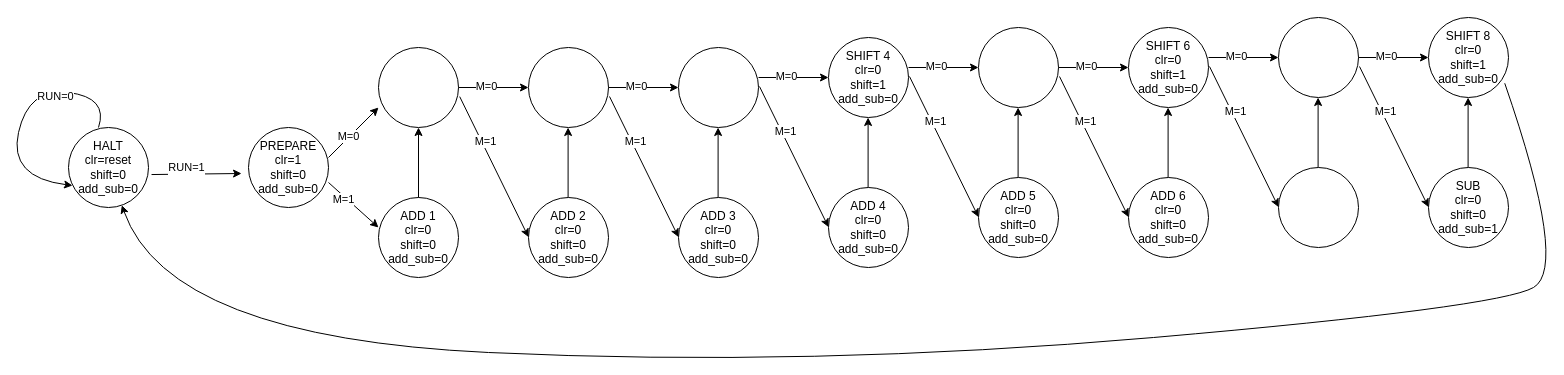
Image size: 1564x375. Some labels were removed from this diagram. The centre of each missing label's shape, as x and y in pixels:
"ADD 7 clr=0 shift=0 add_sub=0" belongs at [1318,207].
"SHIFT 1 clr=0 shift=1 add_sub=0" belongs at [418,87].
"SHIFT 2 clr=0 shift=1 add_sub=0" belongs at [568,87].
"SHIFT 3 clr=0 shift=1 add_sub=0" belongs at [718,87].
"SHIFT 5 clr=0 shift=1 add_sub=0" belongs at [1018,67].
"SHIFT 7 clr=0 shift=1 add_sub=0" belongs at [1318,57].
